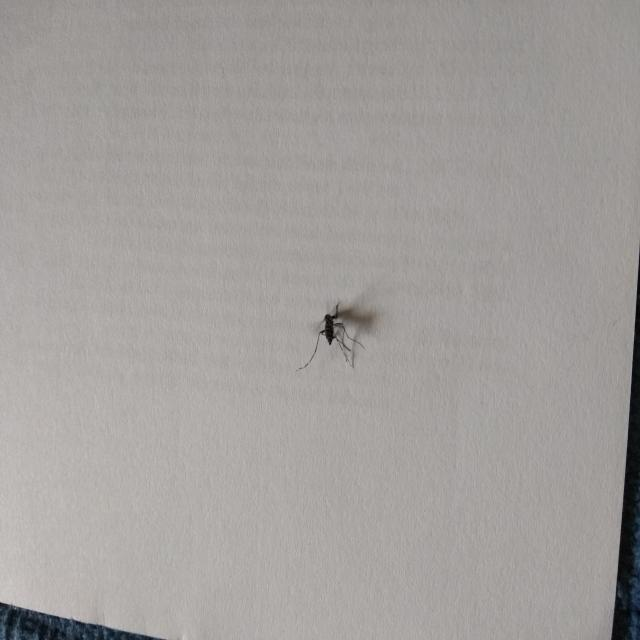albopictus: (296, 294, 368, 378)
